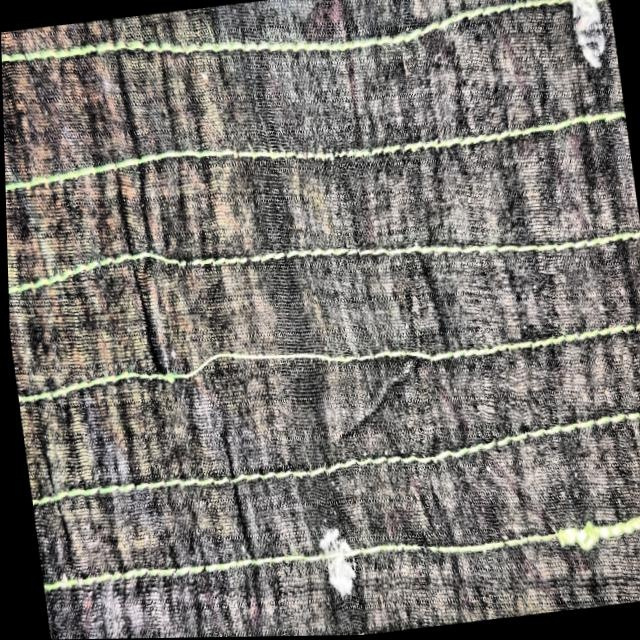Hole: (298, 509, 381, 629)
Stitch: (451, 482, 639, 591), (171, 328, 350, 393)
